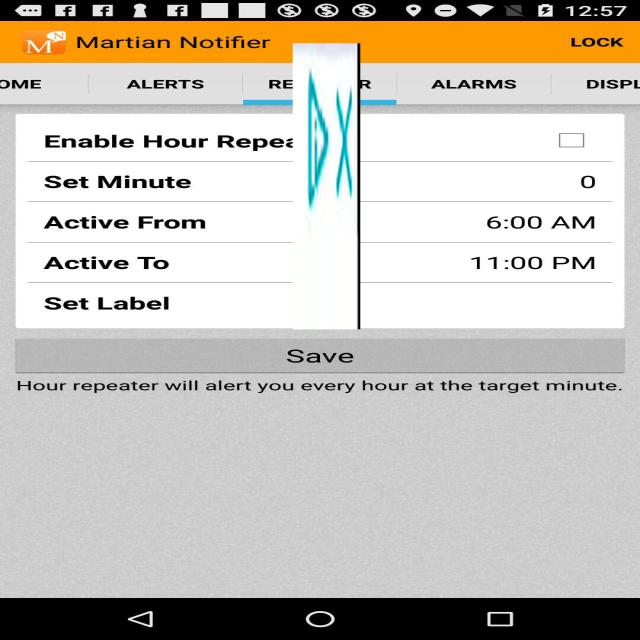sneaking: (293, 43, 360, 330)
